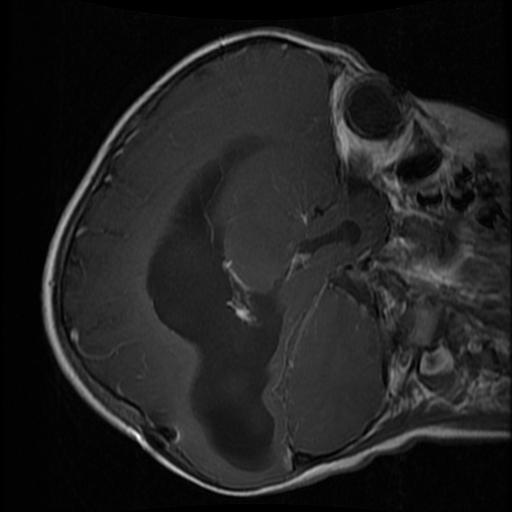glioma: (142, 135, 360, 471)
